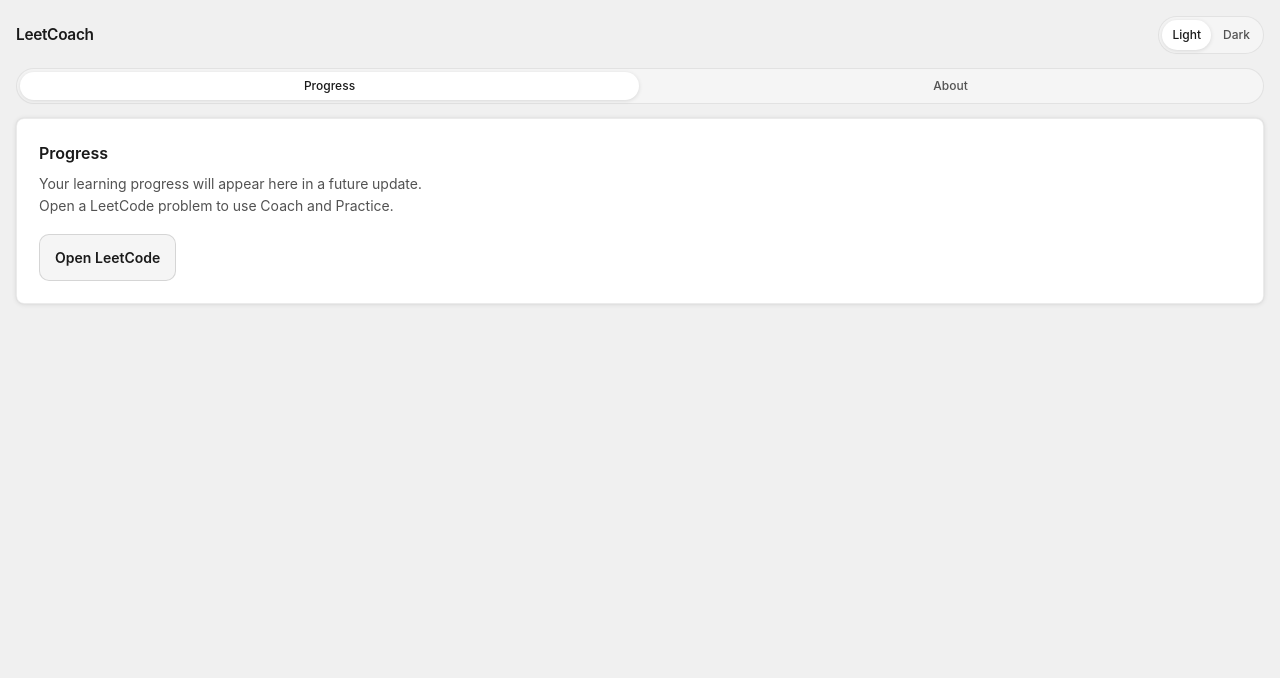
Test: global section navigation › shows only global tabs without a problem and defaults to Coach when one appears
Expected: the text "Open a LeetCode problem to use Coach and Practice." is shown, top-left (39, 197), bottom-right (394, 214)
Click the tab "About" at (950, 86), box top-left (641, 72), bottom-right (1260, 100)
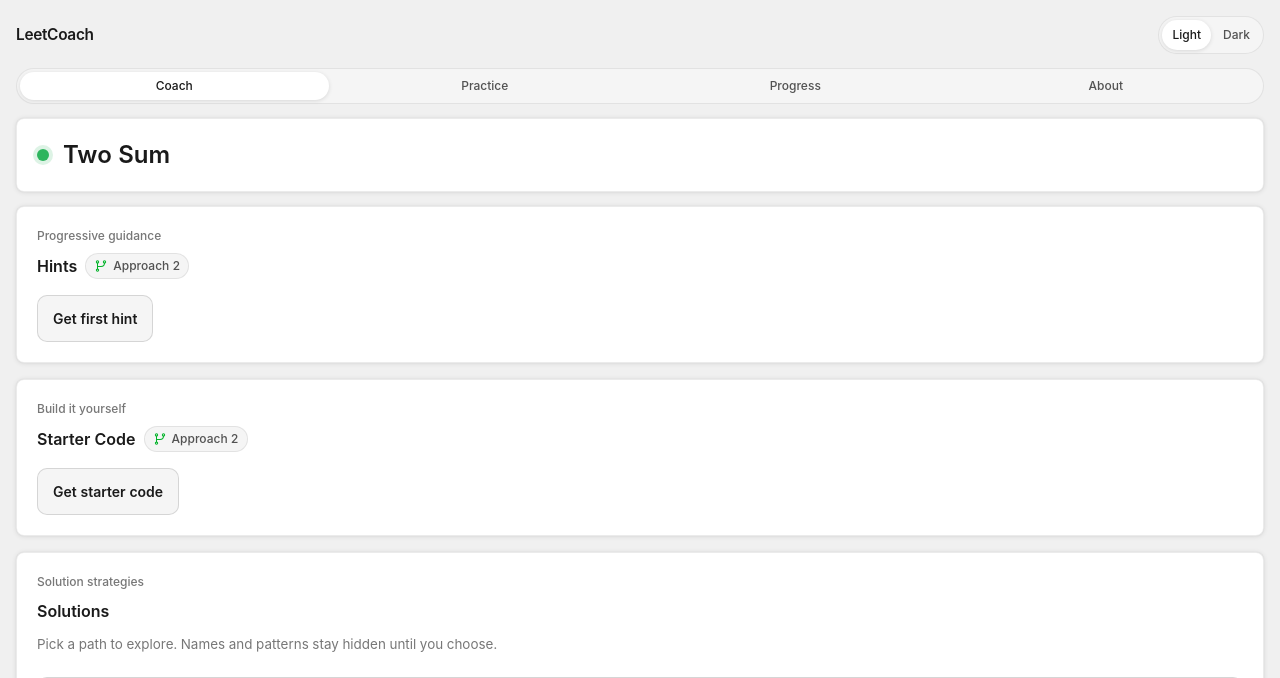
Click the tab "Practice" at (485, 86), box top-left (330, 72), bottom-right (639, 100)
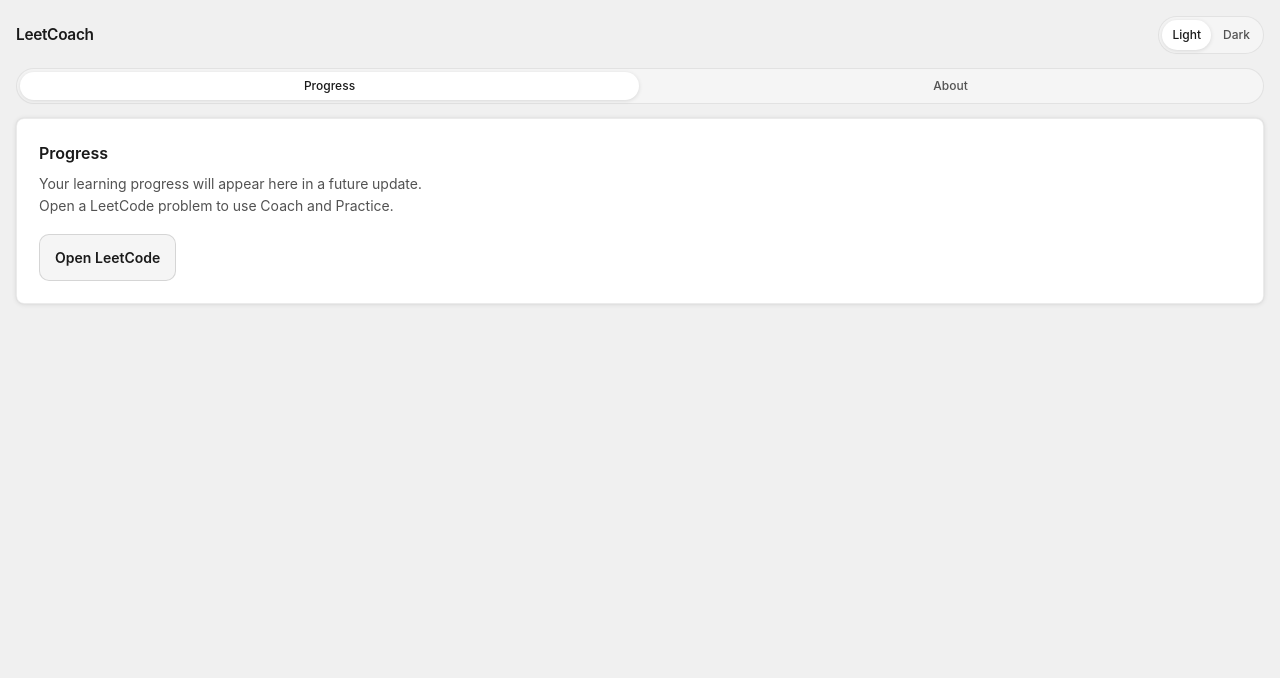
Expected: the tabs read "Progress", "About", in this order, top-left (20, 72), bottom-right (639, 100); top-left (641, 72), bottom-right (1260, 100)
Now the panel "Progress" is shown, box top-left (16, 118), bottom-right (1264, 304)
